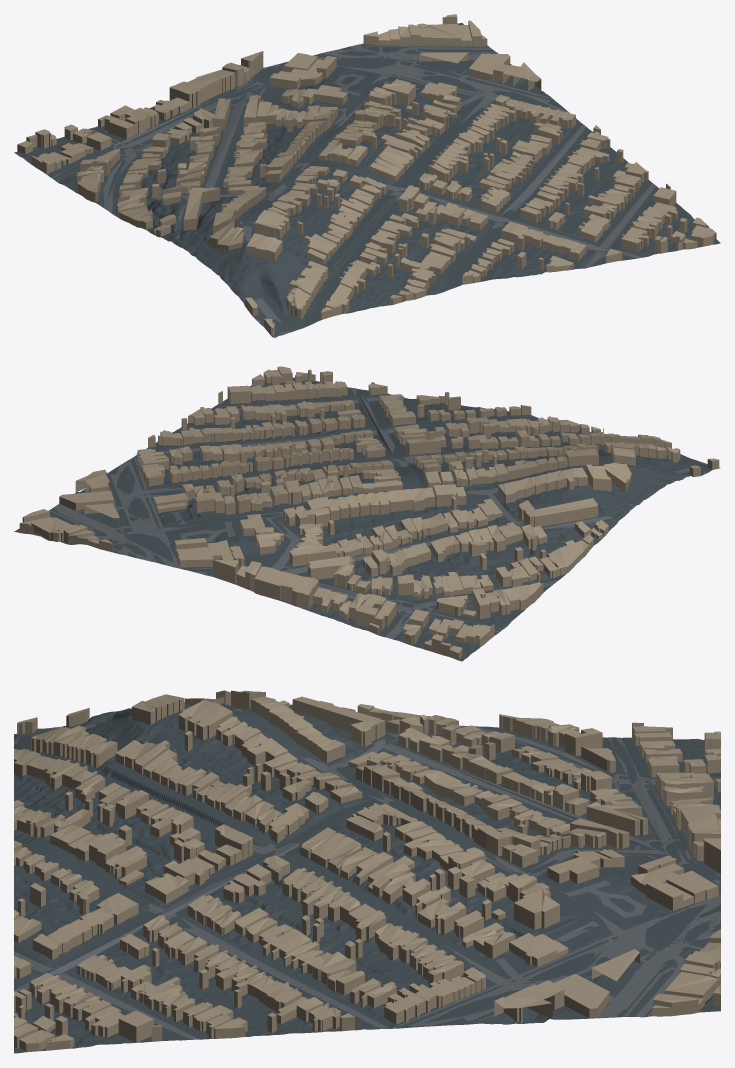
The model's file is epsg26910-1425-10868.lod0.glb.
3 views of the same model, one above another, from view 1: azimuth 30°, elevation 25°; view 2: azimuth 150°, elevation 25°; view 3: azimuth 270°, elevation 25° (orthographic). The views are drawn at different scales.
Visible parts, largest first — view 1: epsg26910-1425-10868-lod0; view 2: epsg26910-1425-10868-lod0; view 3: epsg26910-1425-10868-lod0.
Part boxes in pixels (x1,y1,x2,y2): epsg26910-1425-10868-lod0: (14,14,720,337); epsg26910-1425-10868-lod0: (14,366,720,661); epsg26910-1425-10868-lod0: (14,690,720,1053).
Size of the model in its own units: 384 by 56.58 by 384.
